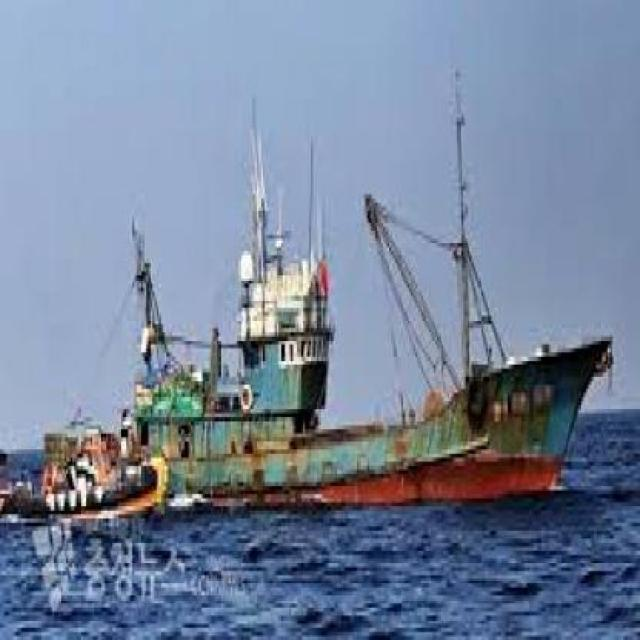fish-b: (121, 50, 626, 521)
